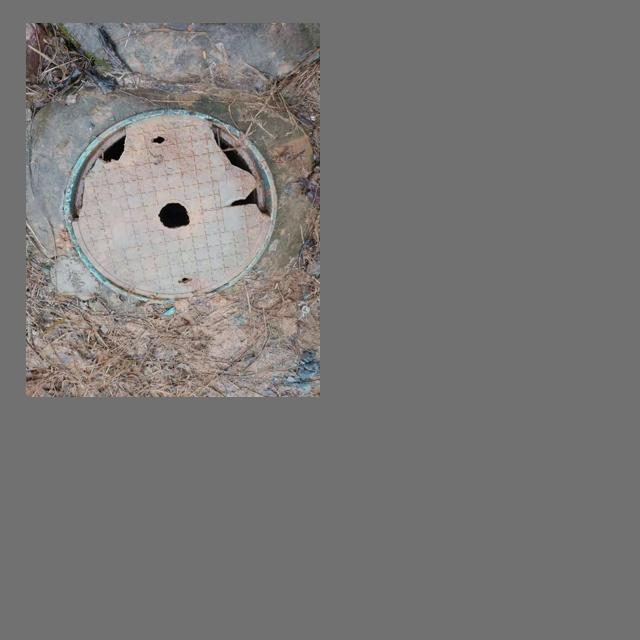broke: (63, 108, 280, 305)
